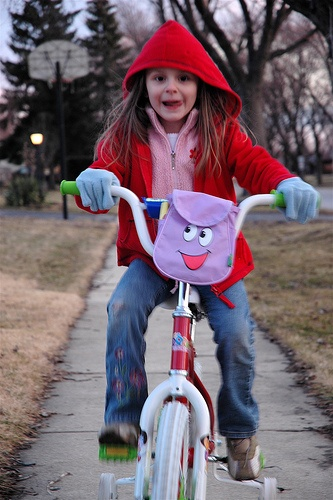head: (146, 64, 204, 121)
person: (58, 19, 322, 475)
